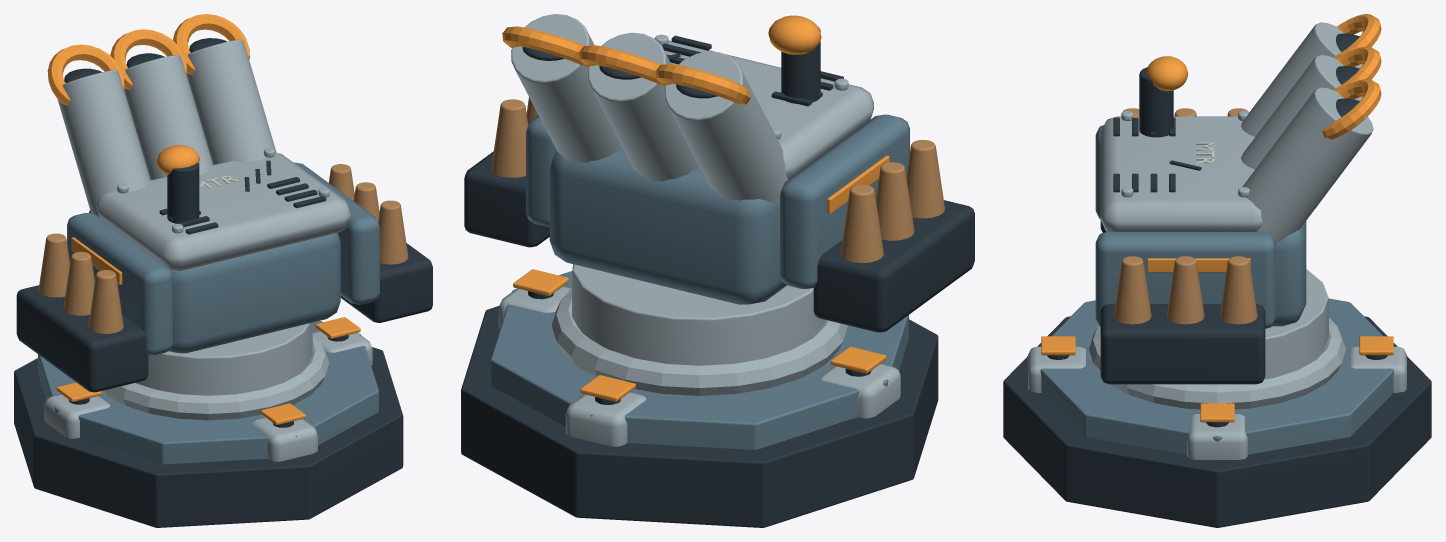
File: 07_cluster_hydra.glb
3 views of the same model, side by side, from view 1: azimuth 30°, elevation 25°; view 2: azimuth 150°, elevation 25°; view 3: azimuth 270°, elevation 25° (orthographic). The views are drawn at different scales.
Visible parts, largest first — view 1: Top carapace, Anchor deck, Armored cradle, Bearing, Cooling vent, Beveled plinth, Shell, Identification strip, Safety flash; view 2: Anchor deck, Armored cradle, Top carapace, Bearing, Beveled plinth, Cooling vent, Shell, Identification strip, Safety flash; view 3: Anchor deck, Top carapace, Beveled plinth, Cooling vent, Bearing, Armored cradle, Shell, Identification strip, Safety flash.
Boxes of the visible parts, x1,y1,x2,y2 form: Top carapace: (57,39,350,270); Anchor deck: (14,335,403,527); Armored cradle: (67,162,379,355); Bearing: (44,322,372,461); Cooling vent: (16,38,432,392); Beveled plinth: (38,320,378,464); Shell: (38,164,408,333); Identification strip: (47,14,249,284); Safety flash: (56,317,360,425); Anchor deck: (461,291,938,527); Armored cradle: (526,114,909,304); Top carapace: (511,14,873,204); Bearing: (498,264,900,446); Beveled plinth: (490,271,908,449); Cooling vent: (464,27,974,332); Shell: (491,97,944,262); Identification strip: (502,15,889,213); Safety flash: (513,269,886,401); Anchor deck: (1003,316,1431,527); Top carapace: (1100,22,1373,243); Beveled plinth: (1029,298,1405,454); Cooling vent: (1100,33,1359,384); Bearing: (1028,269,1406,459); Armored cradle: (1095,125,1306,328); Shell: (1113,108,1257,324); Identification strip: (1146,14,1381,272); Safety flash: (1041,336,1393,422).
Size of the model in its own units: 1.62 by 1.6 by 1.62.
